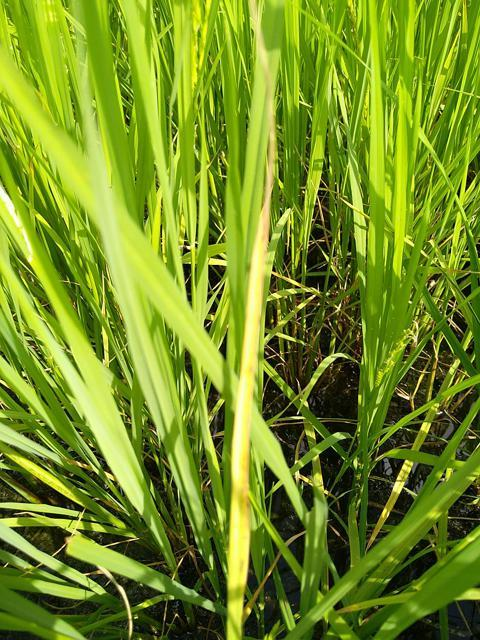Leaf Blight: (227, 146, 269, 639)
